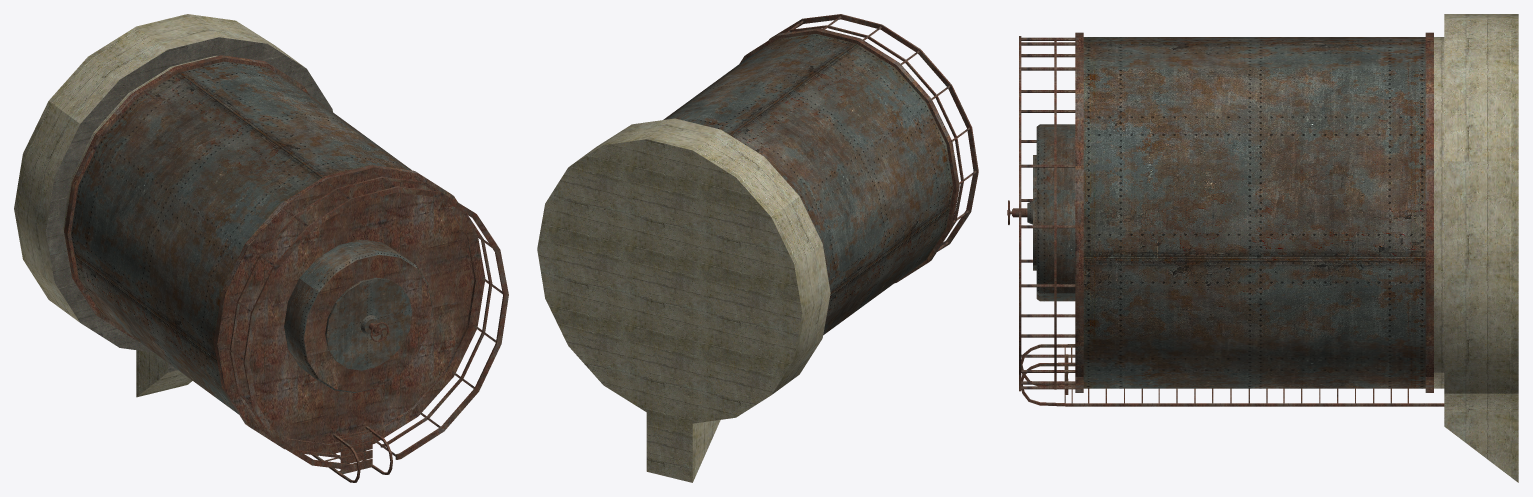
File: tank_2.obj
3 views of the same model, side by side, from view 1: azimuth 30°, elevation 25°; view 2: azimuth 150°, elevation 25°; view 3: azimuth 270°, elevation 25° (orthographic). The views are drawn at different scales.
Parts seen in each view (by area): view 1: MSH_Object; view 2: MSH_Object; view 3: MSH_Object.
Boxes of the visible parts, left/top/right/bottom form: MSH_Object: left=14, top=14, right=508, bottom=482; MSH_Object: left=537, top=14, right=978, bottom=482; MSH_Object: left=1007, top=14, right=1518, bottom=482.
Bounding box in the file's own units: 31.02 × 37.18 × 39.71.
Materials: 4 (4 with a texture image).
